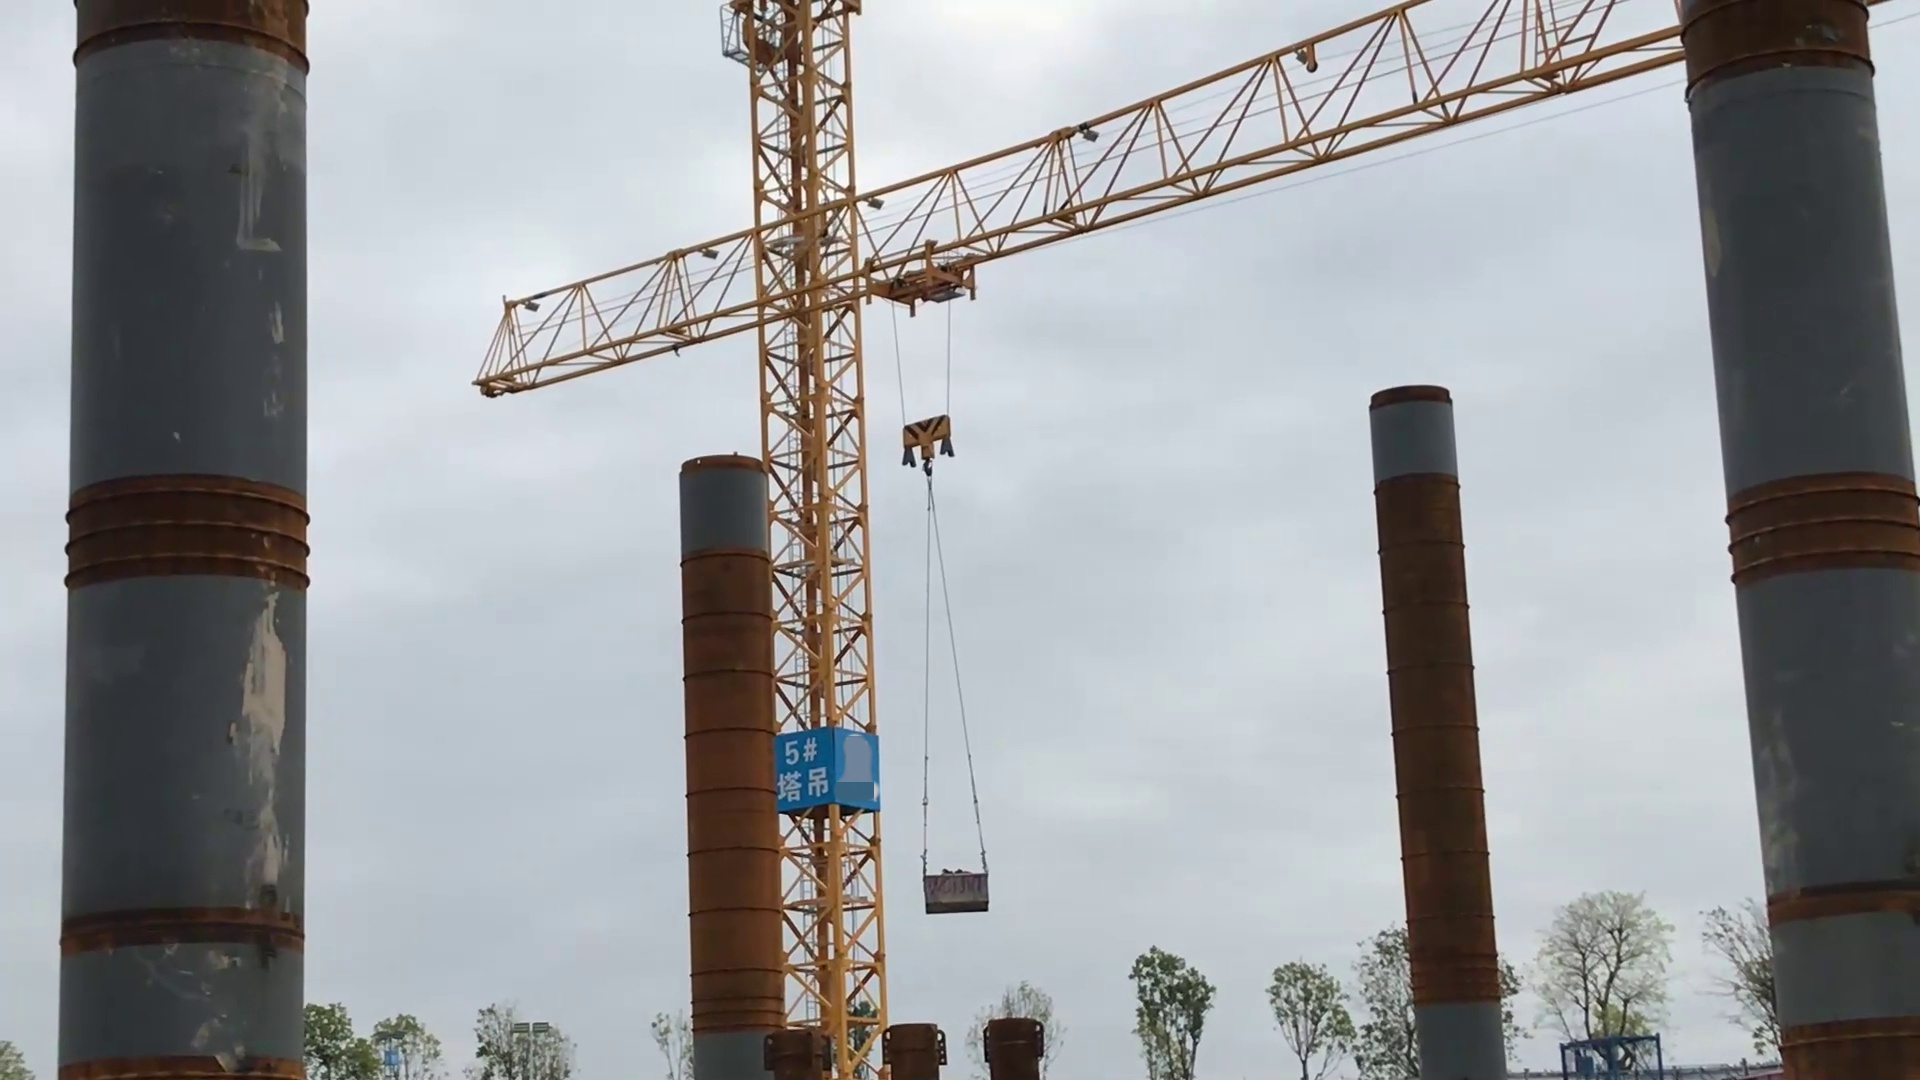hook: (902, 414, 956, 458)
hopper: (920, 865, 988, 913)
